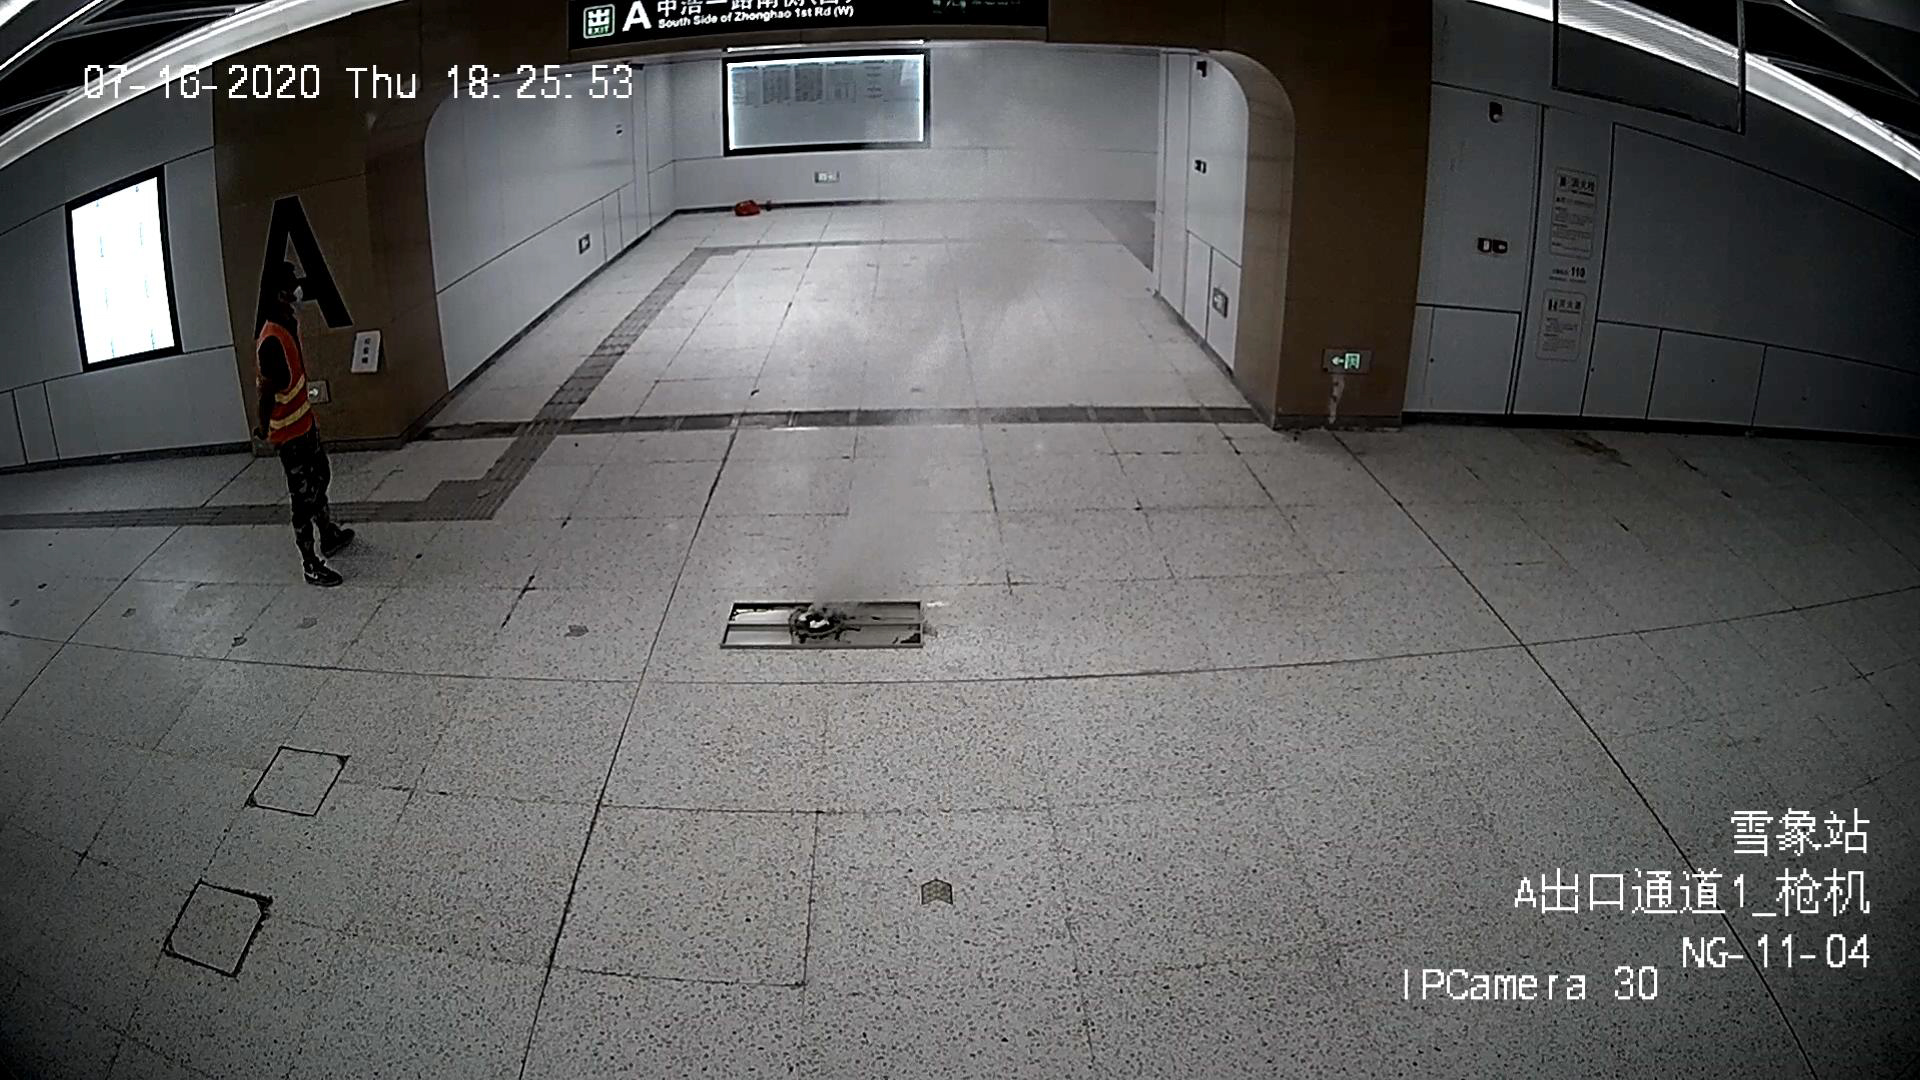smoke: (786, 218, 1065, 593), (945, 63, 1146, 177)
